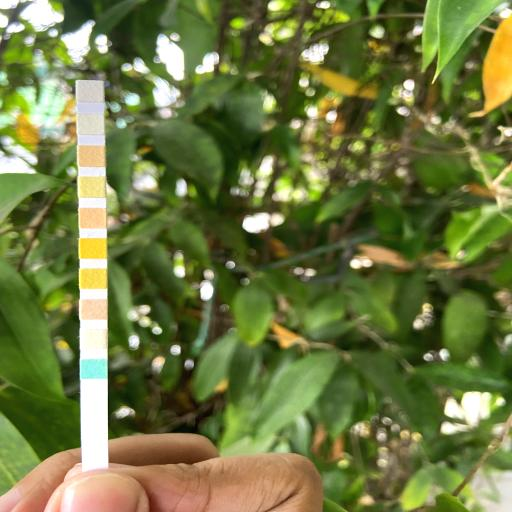Bilirubin: (80, 329, 108, 349)
Blood: (79, 238, 107, 258)
Glucose: (81, 359, 107, 379)
Ketone: (80, 300, 108, 320)
Leukocytes: (76, 81, 104, 102)
Nitrite: (76, 114, 104, 134)
Protein: (78, 178, 106, 198)
SpGravity: (79, 268, 107, 288)
Urobilinogen: (78, 146, 106, 166)
pH: (79, 208, 106, 228)
strip: (76, 80, 109, 449)
